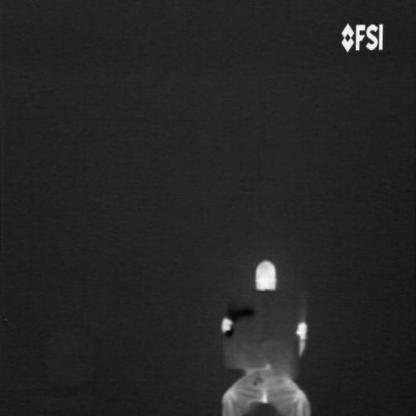weapon: (223, 301, 257, 342)
